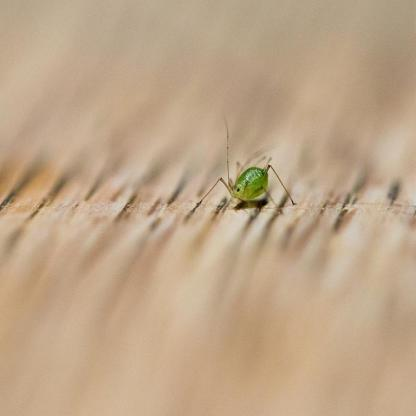aphid: (196, 128, 287, 229)
